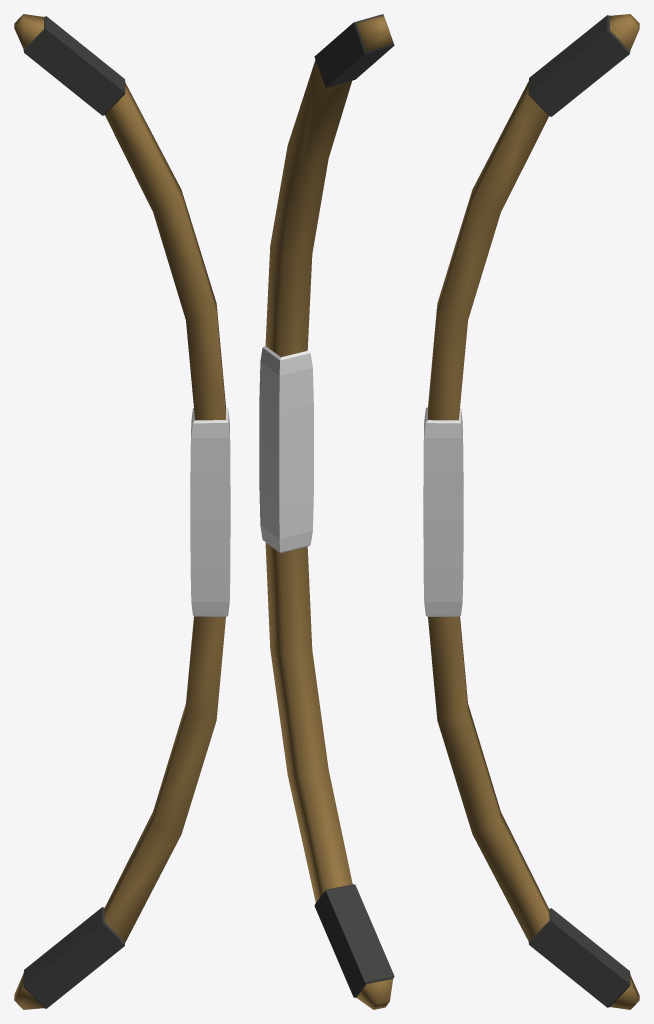
The model's file is bow.fbx.
3 views of the same model, side by side, from view 1: azimuth 90°, elevation 25°; view 2: azimuth 210°, elevation 25°; view 3: azimuth 270°, elevation 25° (orthographic).
Parts seen in each view (by area): view 1: Bow_Wood, Bow_metal, MagicHandle; view 2: Bow_Wood, MagicHandle, Bow_metal; view 3: Bow_Wood, Bow_metal, MagicHandle.
Boxes of the visible parts, x1=… form: Bow_Wood: x1=14, y1=14, x2=225, y2=1009; Bow_metal: x1=23, y1=16, x2=125, y2=1008; MagicHandle: x1=190, y1=407, x2=230, y2=616; Bow_Wood: x1=265, y1=15, x2=392, y2=1009; MagicHandle: x1=259, y1=346, x2=313, y2=553; Bow_metal: x1=314, y1=14, x2=394, y2=997; Bow_Wood: x1=428, y1=14, x2=639, y2=1009; Bow_metal: x1=528, y1=15, x2=630, y2=1007; MagicHandle: x1=423, y1=407, x2=463, y2=616.
Size of the model in its own units: 29.48 by 804 by 159.
